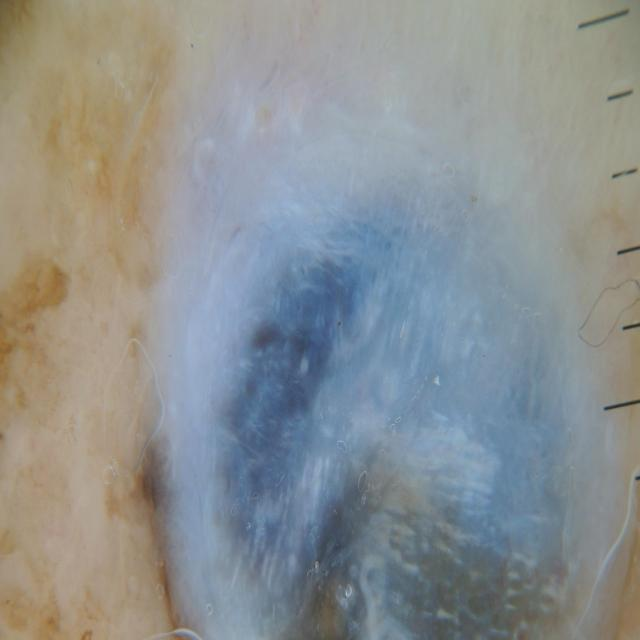Melanoma: (152, 126, 592, 640)
